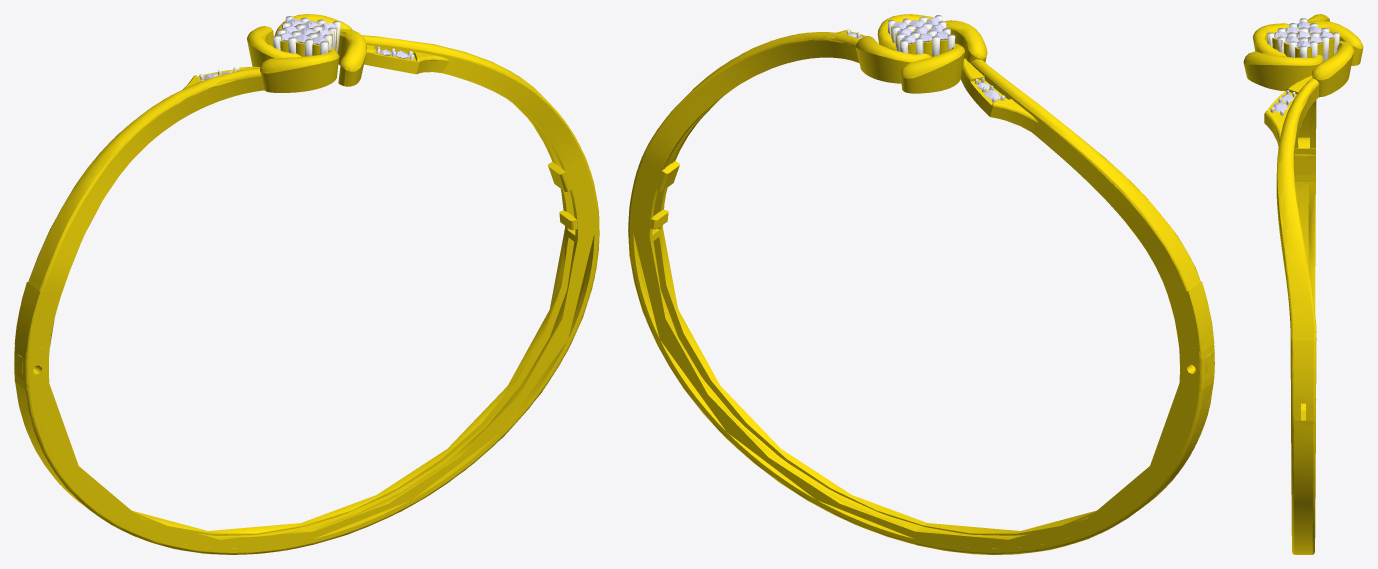
File: DBR-D000688496.glb
3 renders of one model, left to right at view 1: azimuth 30°, elevation 25°; view 2: azimuth 150°, elevation 25°; view 3: azimuth 270°, elevation 25°, orthographic. The views are drawn at different scales.
Visible parts, largest first — view 1: lowPolyMesh, highPolyMesh; view 2: highPolyMesh, lowPolyMesh; view 3: highPolyMesh, lowPolyMesh.
Boxes of the visible parts, x1,y1,x2,y2 form: lowPolyMesh: (14, 14, 599, 554); highPolyMesh: (14, 14, 599, 554); highPolyMesh: (628, 14, 1214, 554); lowPolyMesh: (628, 14, 1214, 554); highPolyMesh: (1243, 14, 1363, 554); lowPolyMesh: (1243, 14, 1362, 554).
Bounding box in the file's own units: 0.0639 × 0.0545 × 0.0122.
